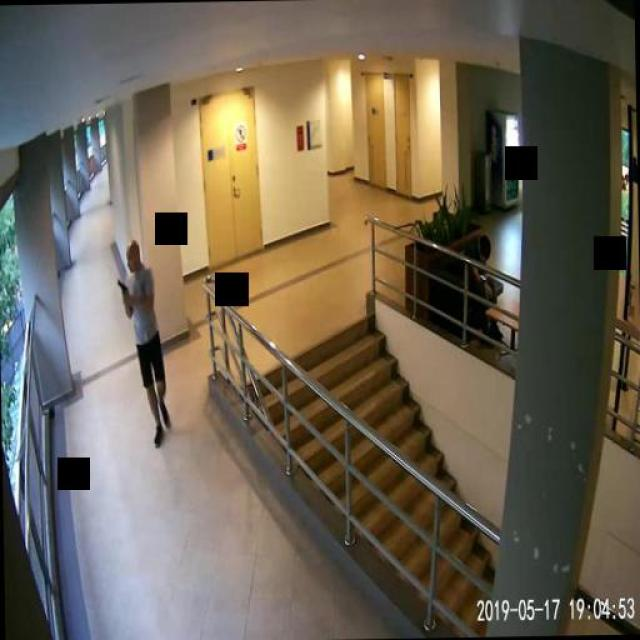gun: (116, 278, 126, 302)
